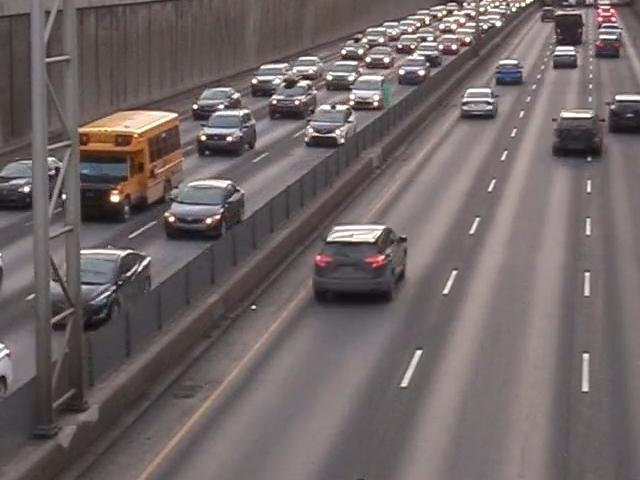car: (38, 235, 160, 331), (308, 220, 417, 303), (162, 185, 245, 240), (198, 108, 269, 156), (0, 145, 54, 206), (299, 98, 363, 146), (550, 110, 608, 162), (607, 76, 640, 133), (346, 69, 387, 114), (267, 82, 324, 114), (250, 54, 293, 89), (548, 34, 580, 75), (493, 49, 525, 87), (198, 84, 245, 109), (398, 52, 434, 84), (462, 90, 500, 120), (295, 53, 325, 81), (593, 27, 619, 59), (363, 47, 399, 68), (339, 37, 366, 62), (366, 18, 387, 46), (398, 28, 420, 54), (417, 45, 443, 53)
truck: (57, 105, 185, 223), (552, 9, 588, 45)
